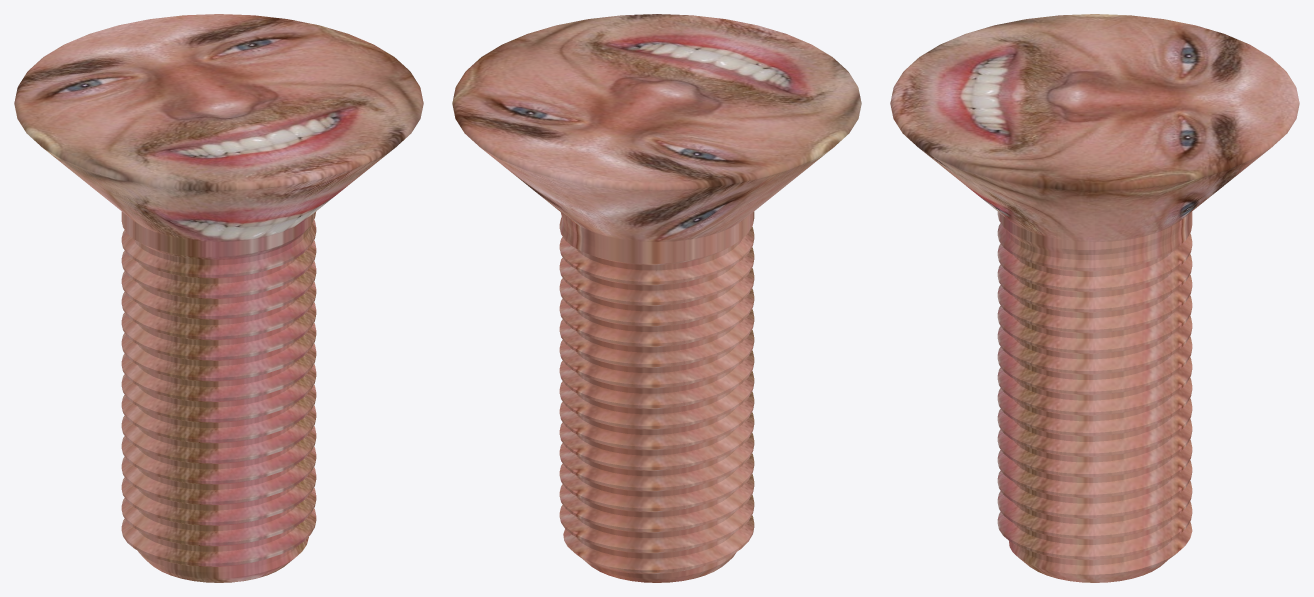
File: kroeger-counter-sink-bolt.glb
3 renders of one model, left to right at view 1: azimuth 30°, elevation 25°; view 2: azimuth 150°, elevation 25°; view 3: azimuth 270°, elevation 25°, orthographic.
Parts seen in each view (by area): view 1: Bolt.025; view 2: Bolt.025; view 3: Bolt.025.
Part boxes in pixels (left/top/right/bottom): Bolt.025: left=14, top=14, right=423, bottom=582; Bolt.025: left=452, top=14, right=861, bottom=582; Bolt.025: left=890, top=14, right=1299, bottom=582.
Size of the model in its own units: 0.0126 by 0.0154 by 0.0126.
Materials: 1 (1 with a texture image).
